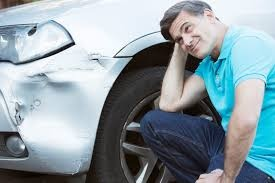Broken-glass: (17, 22, 48, 43)
Dent: (14, 72, 92, 153), (64, 56, 118, 71)
Scratch: (64, 158, 92, 173)
